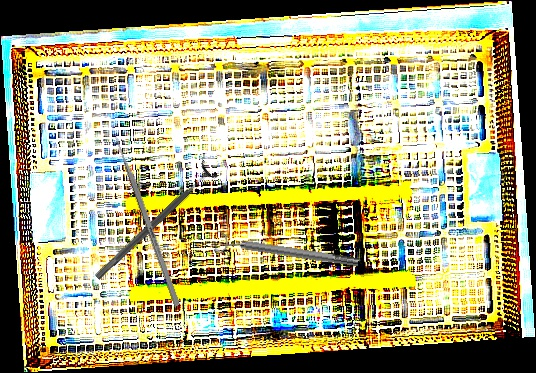Fixation Ring: (88, 158, 220, 287), (214, 228, 360, 276)
Pusher: (108, 124, 182, 307)
